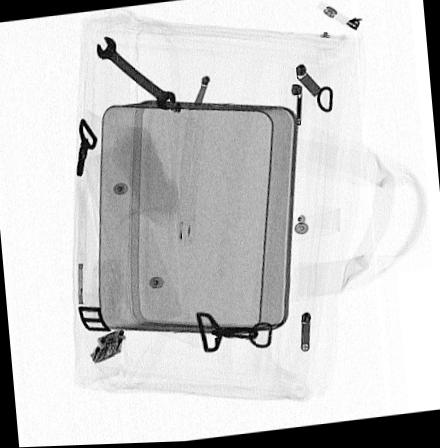Wrench: (93, 38, 175, 112)
